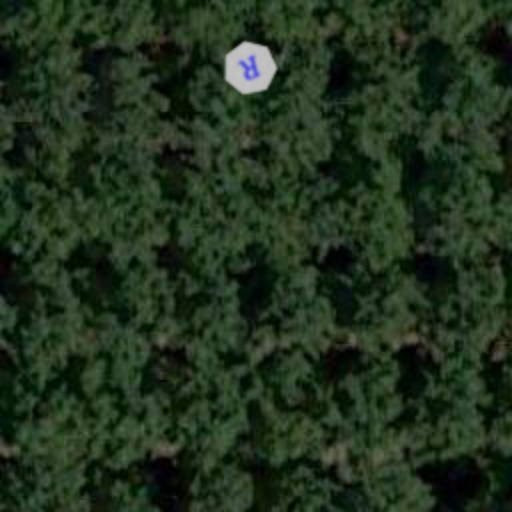heptagon: (212, 30, 288, 106)
